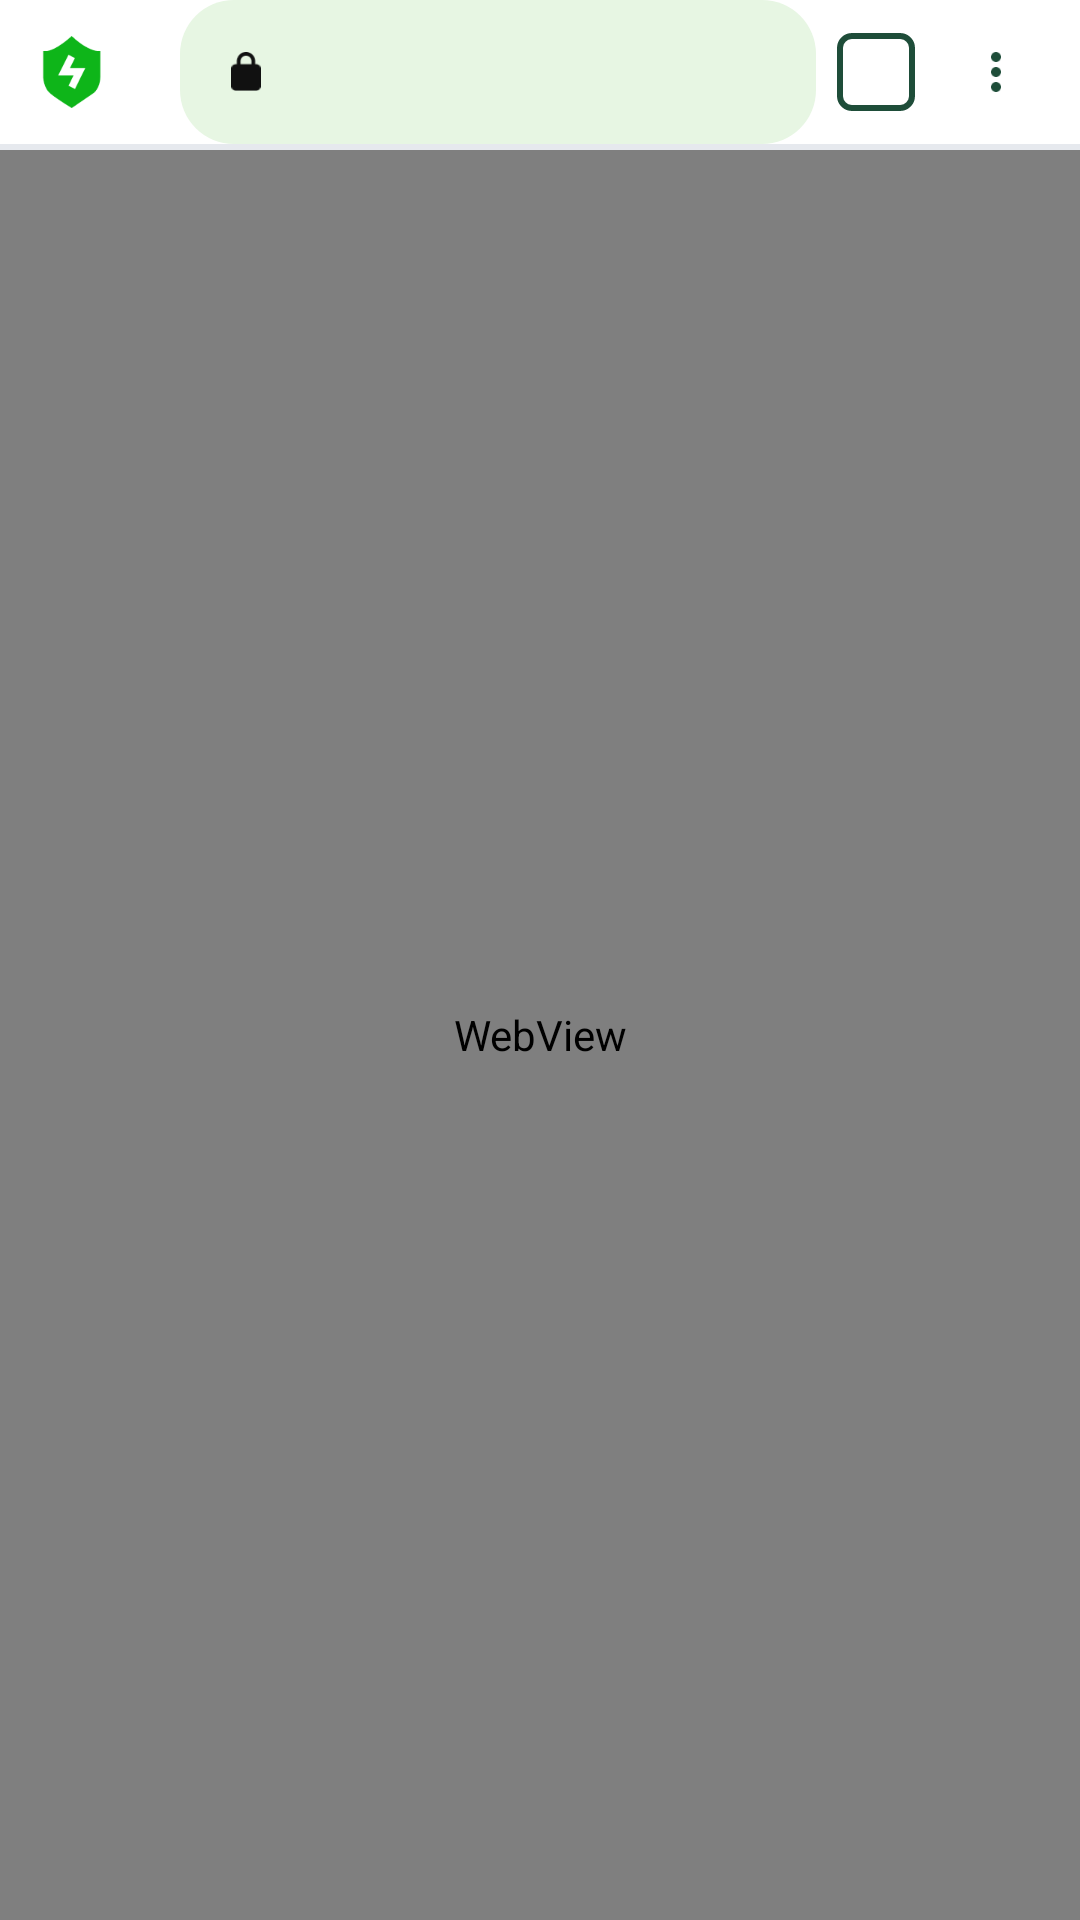

Where to tap for icons on this 1080w x 1920h app screen, as (x,y):
Menu: (996,72)
Secure connection: (246,71)
Security status: (72,72)
